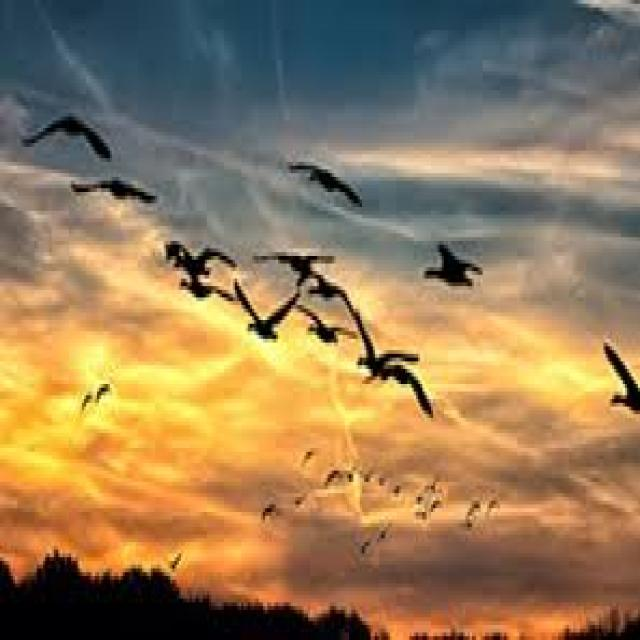bird: (337, 294, 443, 411), (3, 104, 126, 176), (49, 163, 162, 220), (152, 243, 242, 307), (274, 147, 384, 192), (262, 241, 344, 301), (238, 284, 296, 364), (414, 228, 476, 299)
